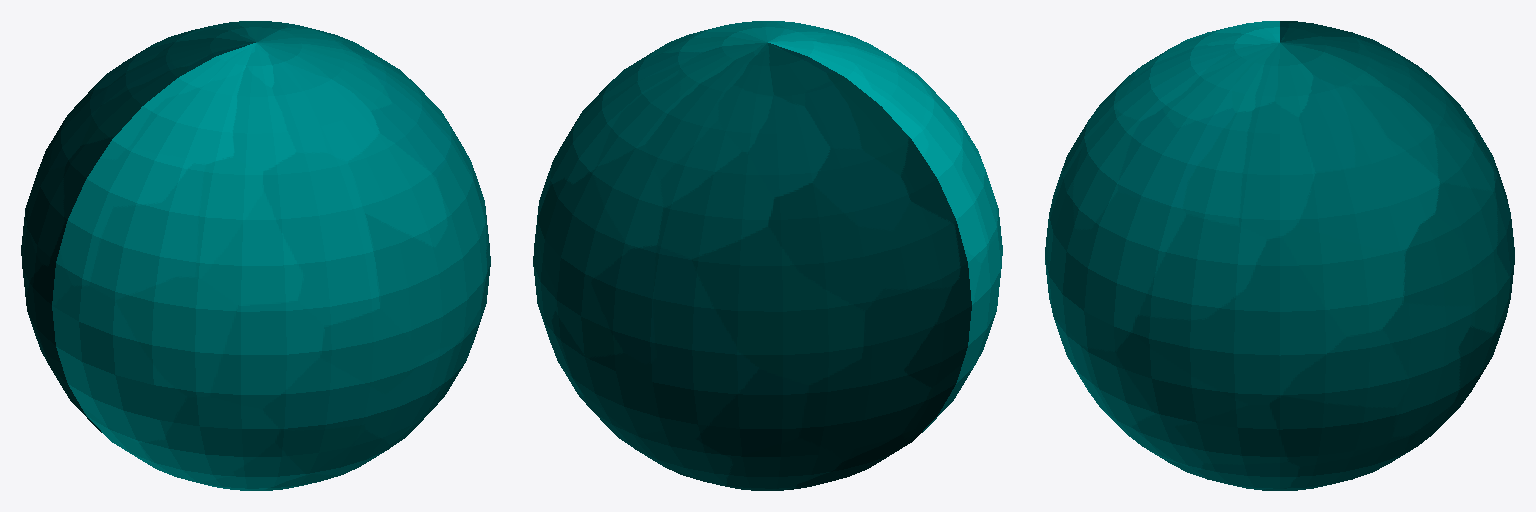
The picture shows the model from 3 angles: view 1: azimuth 30°, elevation 25°; view 2: azimuth 150°, elevation 25°; view 3: azimuth 270°, elevation 25°; orthographic projection.
Visible parts, largest first — view 1: Sphère; view 2: Sphère; view 3: Sphère.
Boxes of the visible parts, box(x1,y1,x2,y2) form: Sphère: box(21, 21, 490, 490); Sphère: box(533, 21, 1002, 490); Sphère: box(1045, 21, 1514, 490).
Bounding box in the file's own units: 547 × 547 × 547.
4 materials, 3 textured.